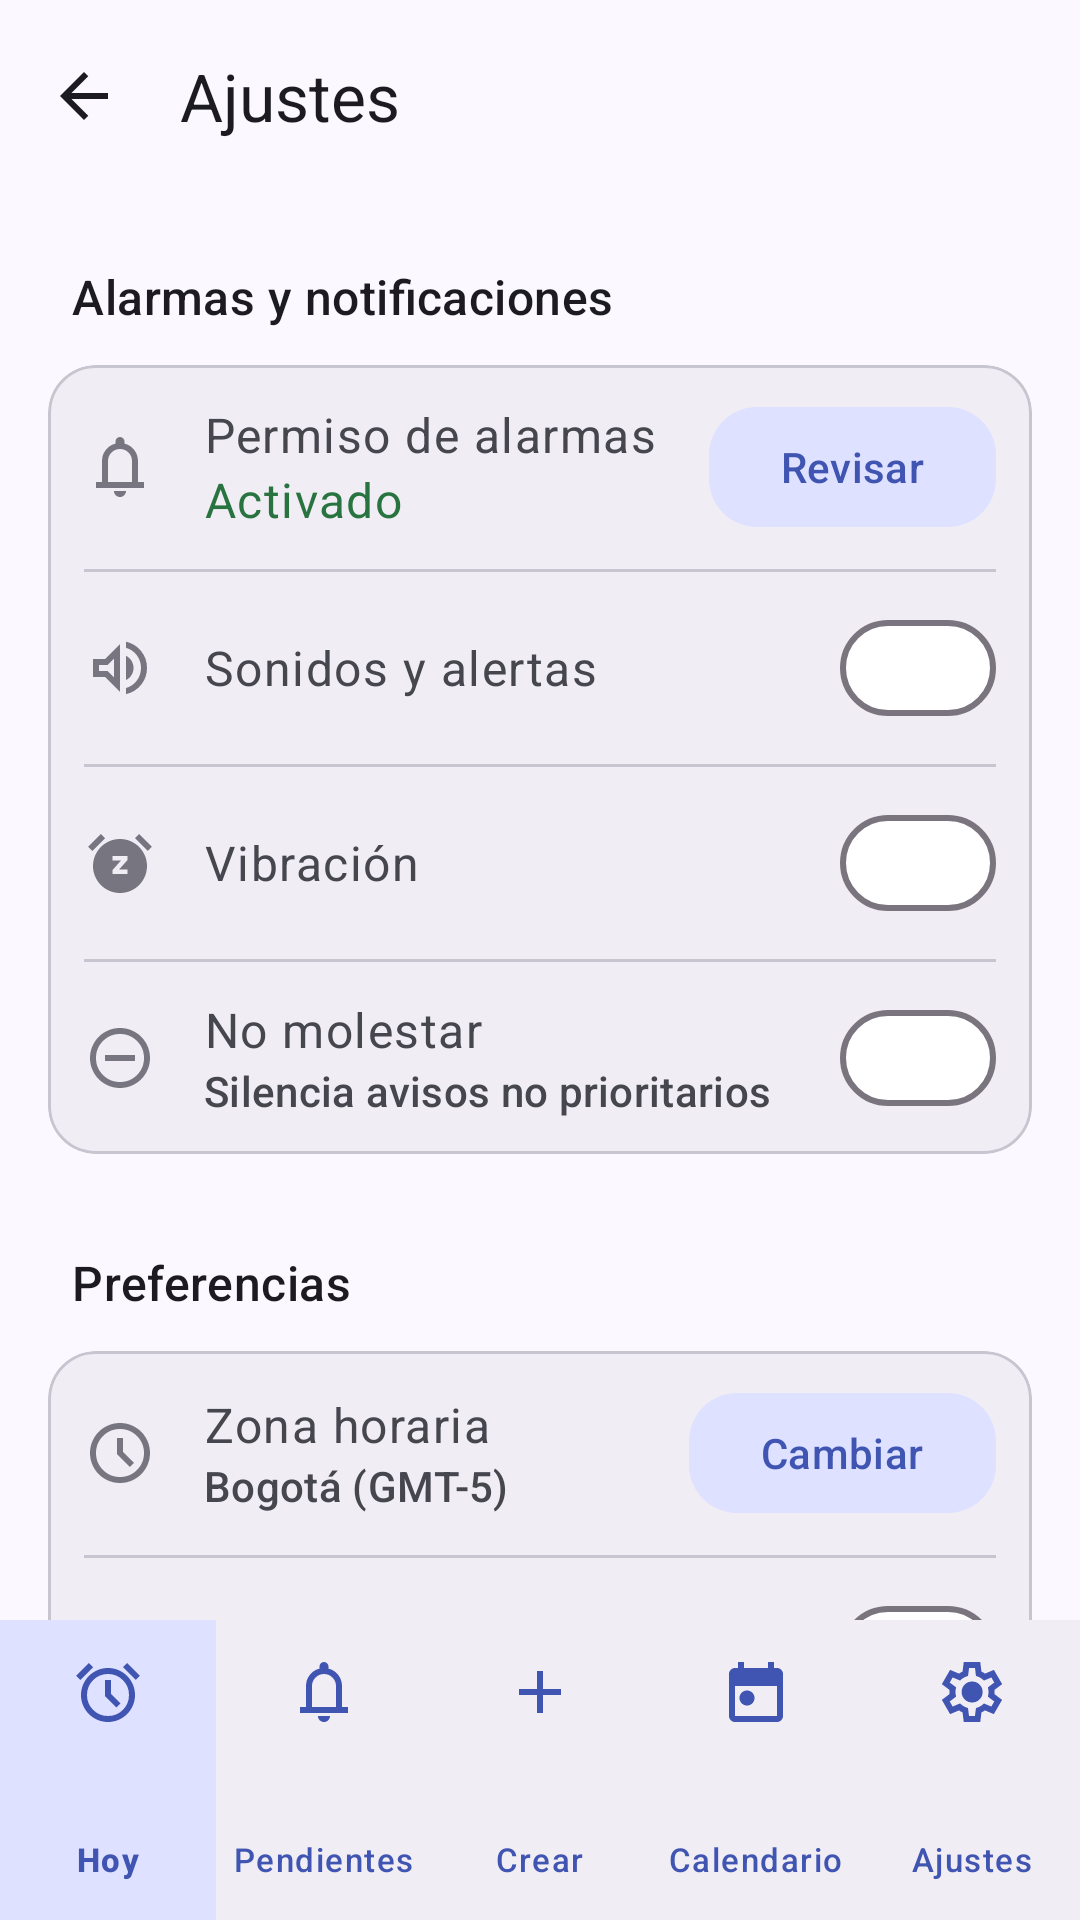

Locate icon controls on the screen. Image size 1080px×1920px, boxes as (x1, y1, x2, y2).
do not disturb: (90, 1028, 150, 1088)
notifications: (96, 437, 144, 497)
snooze: (88, 834, 152, 893)
volume up: (93, 642, 147, 694)
